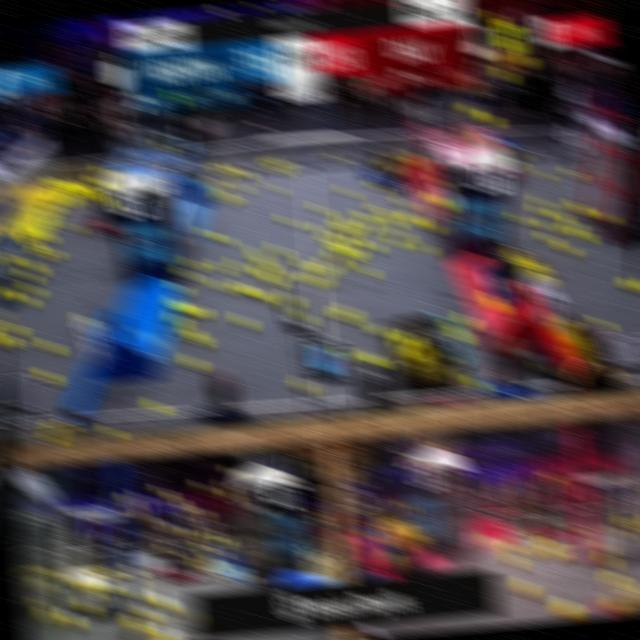ball_airborne: (514, 51, 532, 68), (480, 111, 498, 127), (464, 103, 480, 118), (486, 11, 503, 24), (496, 68, 512, 81), (458, 107, 471, 118)
ball_ground: (553, 598, 578, 621), (125, 614, 146, 638), (514, 577, 535, 599), (59, 610, 79, 632), (154, 625, 180, 640), (599, 550, 617, 568), (294, 378, 312, 396), (504, 550, 522, 568), (184, 355, 202, 372), (38, 368, 56, 385), (371, 322, 389, 338), (147, 398, 165, 414), (40, 339, 59, 354), (188, 331, 206, 346), (458, 313, 474, 329), (623, 279, 640, 294), (236, 314, 253, 329), (212, 280, 230, 294), (188, 302, 206, 316), (558, 243, 574, 258), (0, 332, 16, 347), (234, 281, 251, 295), (302, 273, 319, 287), (0, 286, 16, 300), (216, 190, 232, 204), (176, 266, 192, 280), (357, 264, 372, 278), (232, 259, 248, 272), (542, 232, 558, 245), (598, 211, 614, 224), (416, 240, 432, 253), (24, 284, 40, 297), (324, 235, 340, 248), (170, 282, 187, 294), (19, 270, 36, 282), (372, 203, 387, 216), (212, 261, 228, 273), (201, 228, 217, 240), (512, 214, 528, 226), (272, 244, 288, 256), (575, 228, 591, 240), (17, 294, 33, 306), (238, 572, 254, 584), (65, 222, 80, 234), (364, 238, 379, 250), (315, 224, 330, 236), (256, 270, 271, 282), (422, 222, 437, 234), (386, 237, 402, 248), (44, 245, 60, 256), (314, 204, 328, 216), (541, 220, 555, 232), (281, 216, 296, 227), (550, 211, 566, 221), (534, 168, 550, 178), (319, 262, 335, 272), (208, 178, 222, 189), (267, 182, 281, 193), (567, 168, 582, 178), (371, 182, 386, 192), (610, 528, 625, 538), (398, 199, 413, 209), (340, 186, 354, 196), (232, 181, 246, 191), (531, 534, 545, 542), (0, 307, 7, 319)
goal: (105, 128, 174, 168)
robot_blue: (475, 226, 560, 314), (362, 500, 430, 578), (359, 142, 415, 194)
robot_red: (379, 308, 475, 413), (525, 496, 574, 544), (152, 542, 196, 584)
